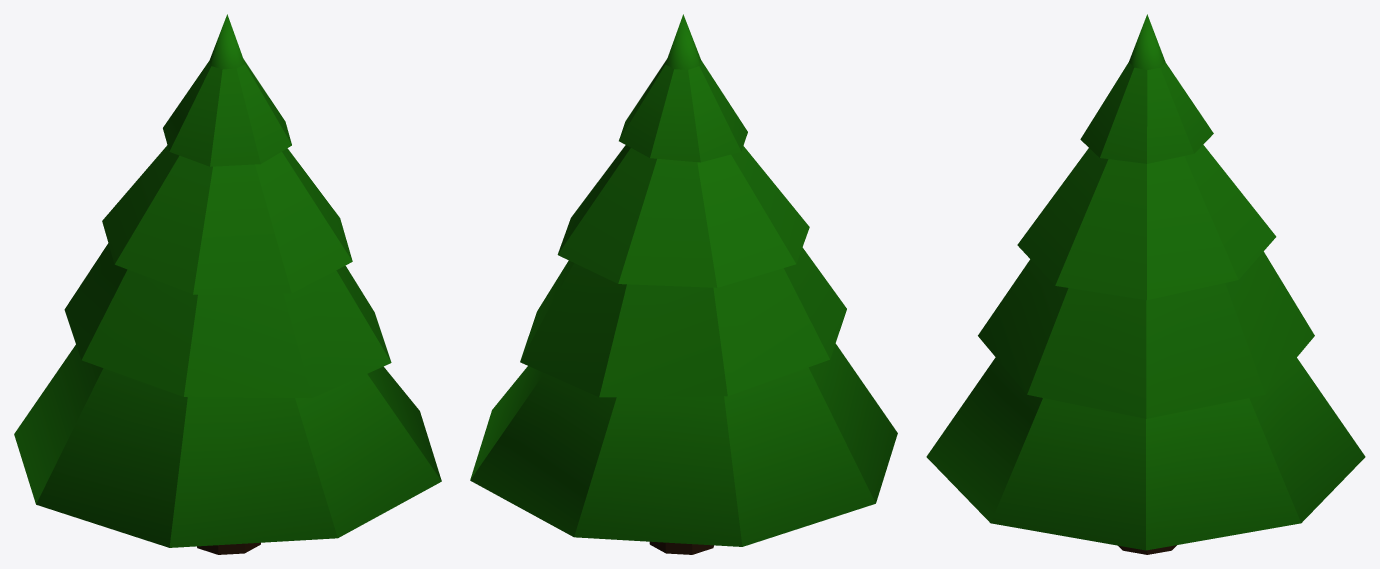
The model's file is PineTree01.fbx.
The picture shows the model from 3 angles, left to right: view 1: azimuth 30°, elevation 25°; view 2: azimuth 150°, elevation 25°; view 3: azimuth 270°, elevation 25°; orthographic projection.
Parts seen in each view (by area): view 1: PineTree01; view 2: PineTree01; view 3: PineTree01.
Part boxes in pixels (<box>): PineTree01: <box>14,14,441,554</box>; PineTree01: <box>470,14,897,554</box>; PineTree01: <box>926,14,1365,554</box>.
Size of the model in its own units: 8.11 by 10.64 by 8.05.
